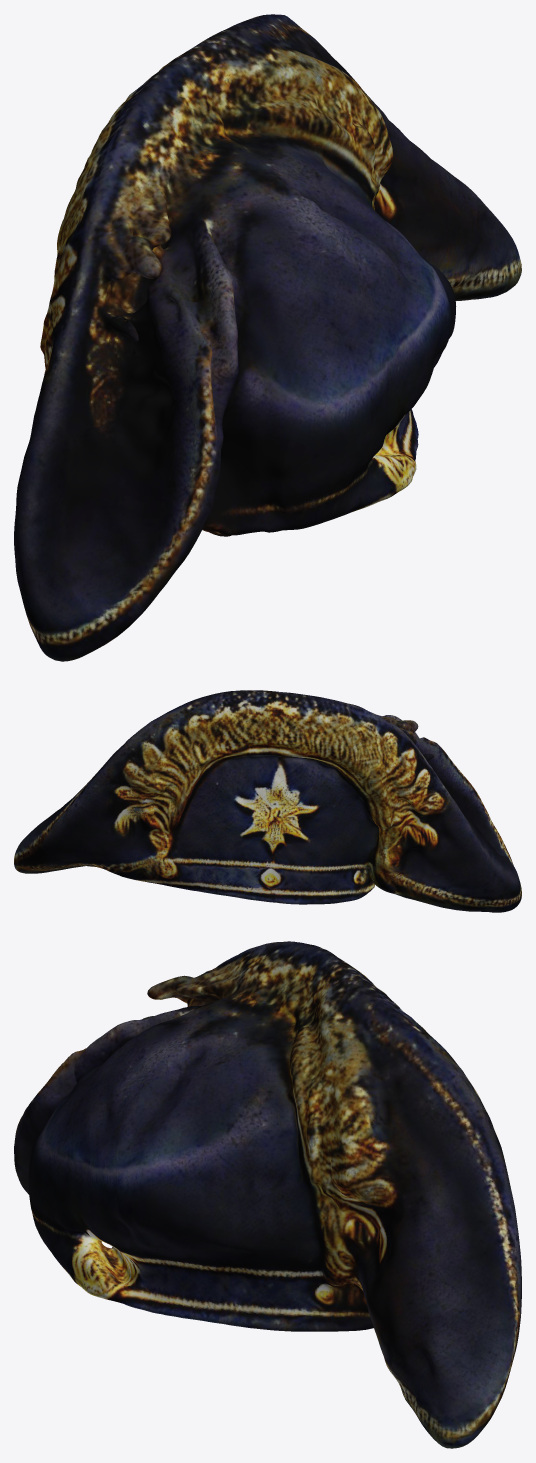
The model's file is ee74e6ad94d2_napoleon_s_bicorn_h.fbx.
3 views of the same model, one above another, from view 1: azimuth 30°, elevation 25°; view 2: azimuth 150°, elevation 25°; view 3: azimuth 270°, elevation 25° (orthographic). The views are drawn at different scales.
Visible parts, largest first — view 1: high_poly; view 2: high_poly; view 3: high_poly.
Part boxes in pixels (x1=…): high_poly: x1=14, y1=14, x2=521, y2=661; high_poly: x1=14, y1=690, x2=521, y2=912; high_poly: x1=14, y1=941, x2=521, y2=1448.
Bounding box in the file's own units: 100 × 59.42 × 73.24.
